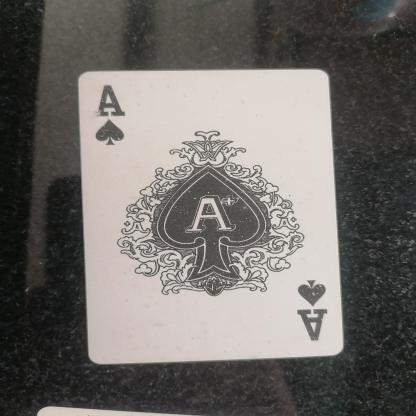AS: (86, 80, 135, 152), (288, 272, 332, 350)
